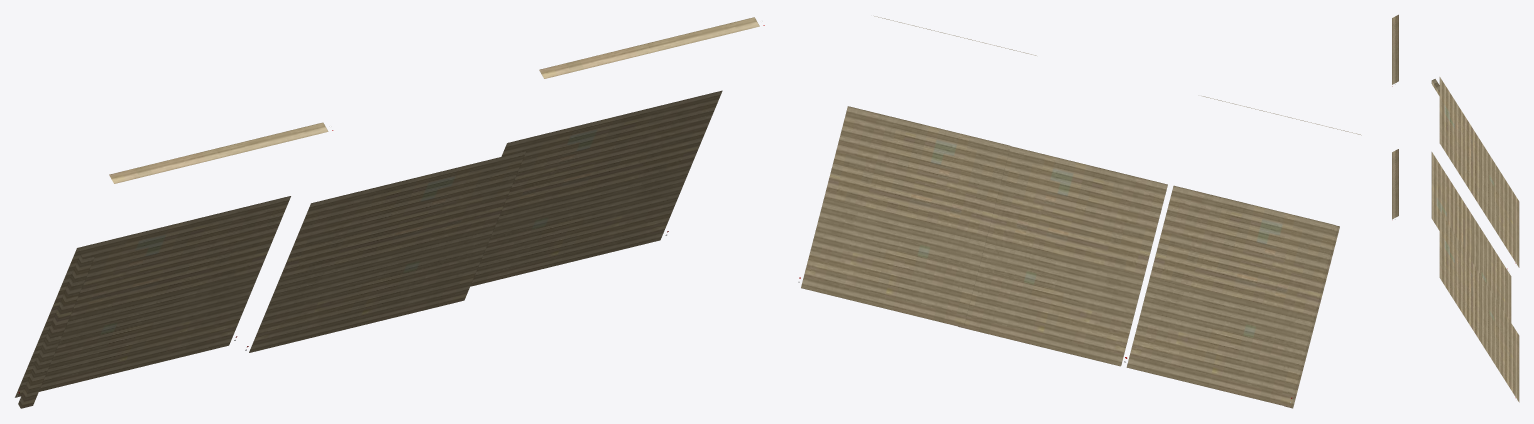
The model's file is link_1_combined_mesh.obj.
The picture shows the model from 3 angles, left to right: view 1: azimuth 30°, elevation 25°; view 2: azimuth 150°, elevation 25°; view 3: azimuth 270°, elevation 25°; orthographic projection. The views are drawn at different scales.
Bounding box in the file's own units: 0.8425 × 0.3714 × 0.2235.
